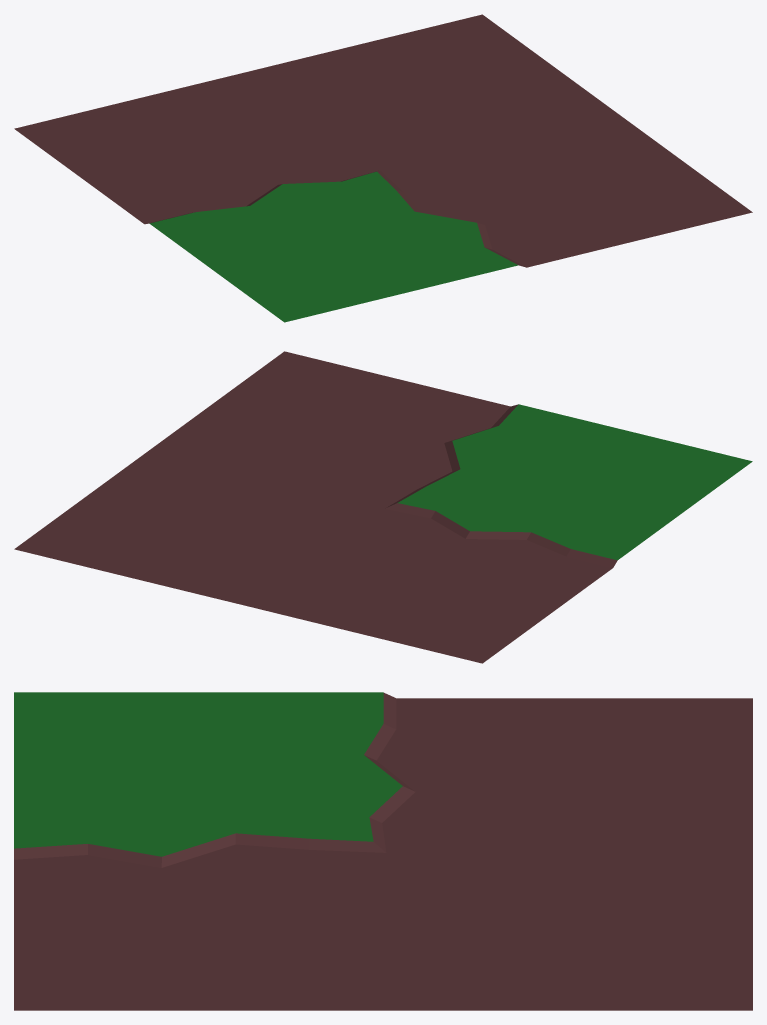
File: Cesped_Barro_Angulo.fbx
3 views of the same model, one above another, from view 1: azimuth 30°, elevation 25°; view 2: azimuth 150°, elevation 25°; view 3: azimuth 270°, elevation 25° (orthographic). The views are drawn at different scales.
Parts seen in each view (by area): view 1: Cesped_Barro_Angulo; view 2: Cesped_Barro_Angulo; view 3: Cesped_Barro_Angulo.
Part boxes in pixels (left/top/right/bottom): Cesped_Barro_Angulo: left=14, top=14, right=752, bottom=322; Cesped_Barro_Angulo: left=14, top=351, right=752, bottom=663; Cesped_Barro_Angulo: left=14, top=692, right=752, bottom=1010.
Bounding box in the file's own units: 2000 × 17.28 × 2000.
